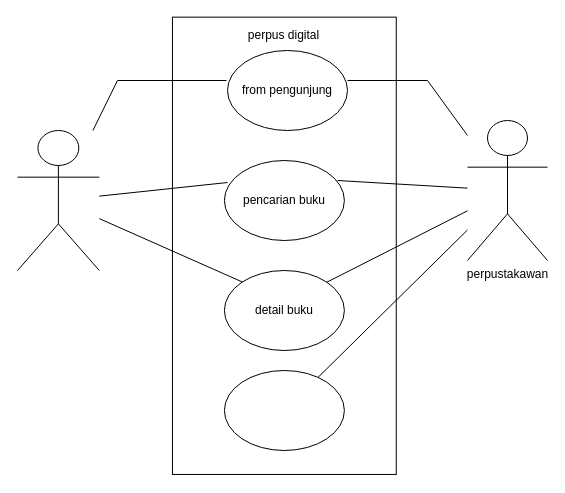
Some shapes in this 565 by 493 pixel diagram are drawn without their labels. Here are the shapes that lost their labels. From the top down, the box of each, then its label:
(16, 130, 99, 270): pengunjung
(223, 370, 344, 450): laporan statistik
